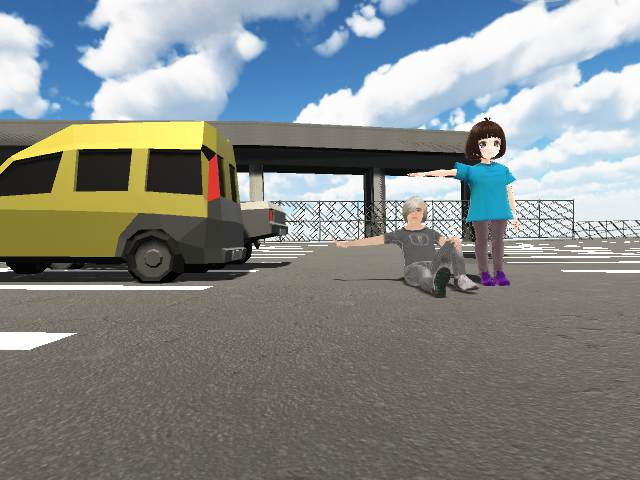doubleP_left: (331, 118, 524, 296)
